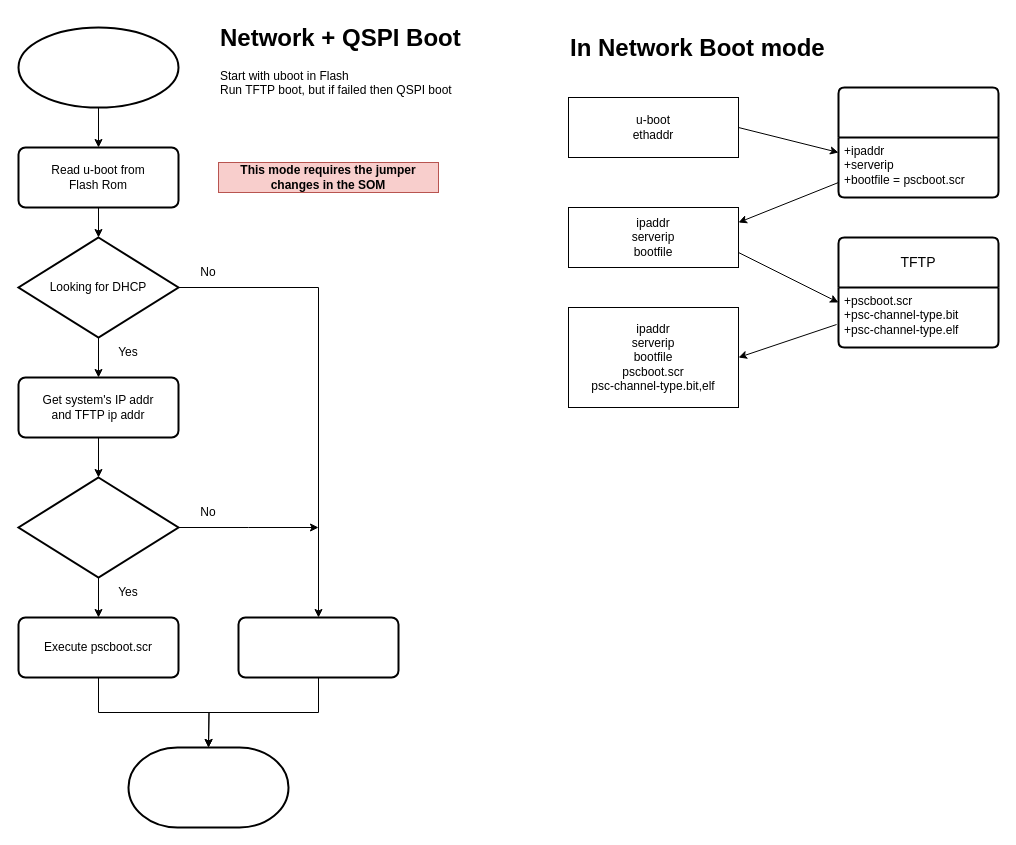
Image size: 1016x845. Some labels were removed from this diagram. The box of each missing label's shape, as (x1, y1, x2, y2) in pixels:
DHCP: (837, 86, 999, 198)
Execute pscbootlocal in Flash Rom: (237, 616, 399, 678)
Firmware Loading: (127, 746, 289, 828)
Looking for TFTP: (17, 476, 179, 578)
PSC Power On: (17, 26, 179, 108)
